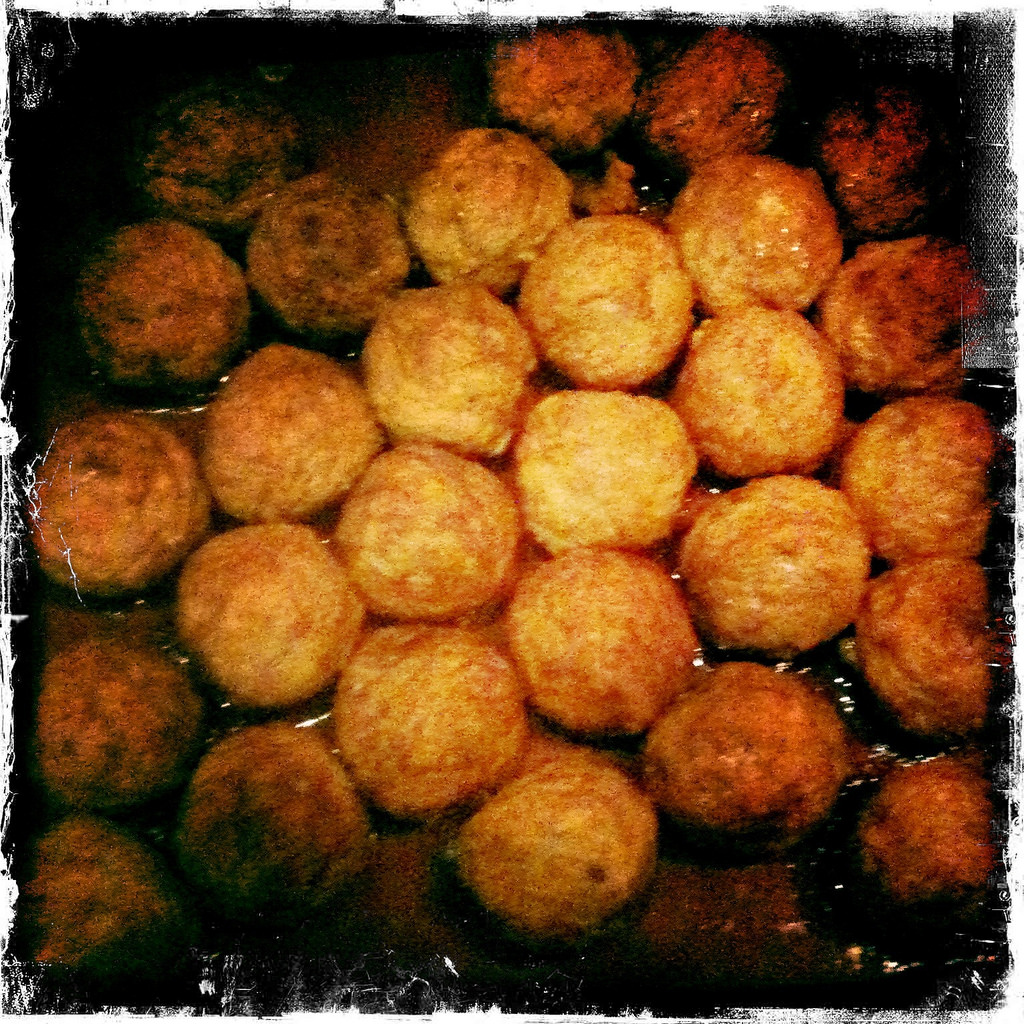meatballs: (101, 77, 970, 952)
